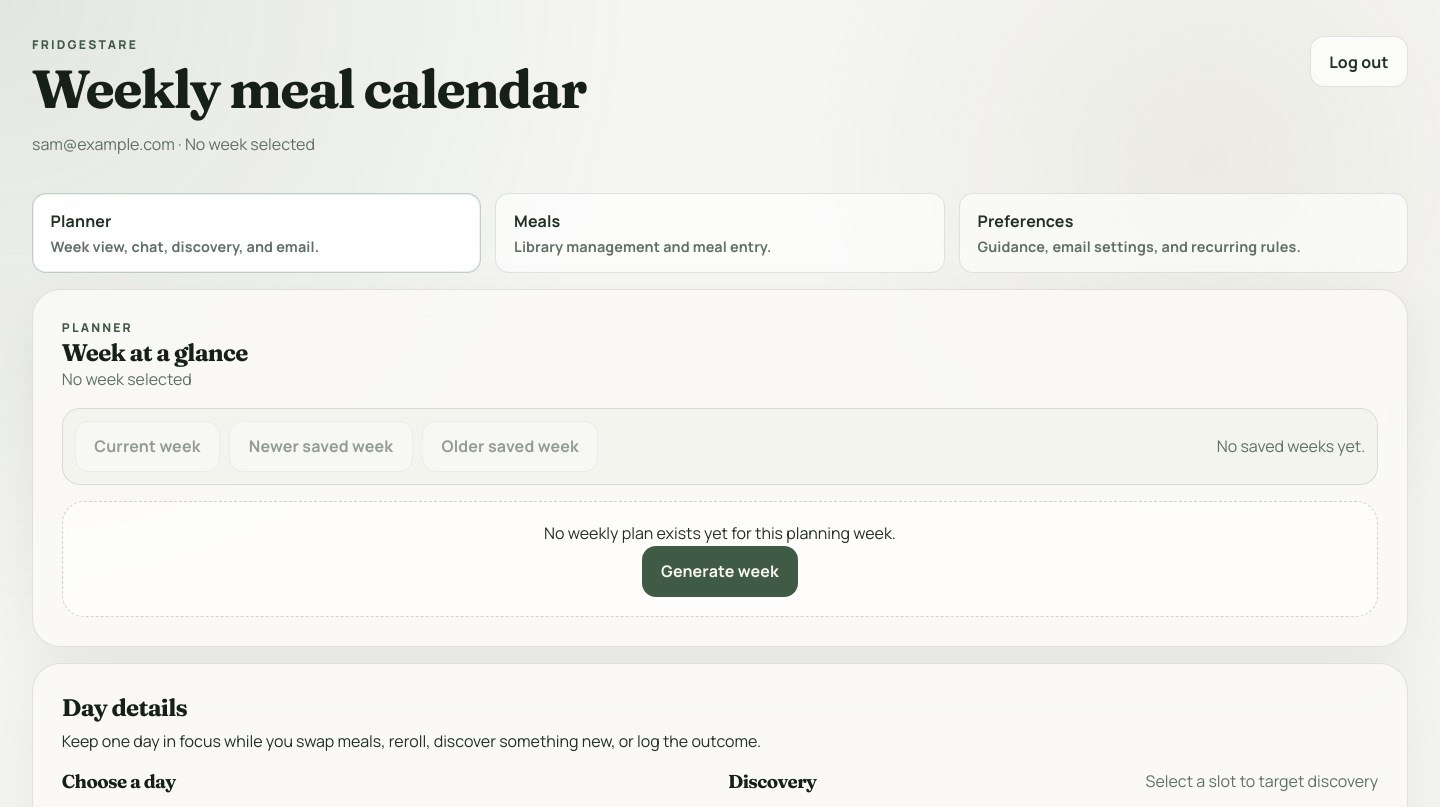
Test case: App › offers planning timezones as a fixed list rather than free text
The image size is (1440, 807).
Click the tab "Preferences Guidance, email settings, and recurring rules.": {"x": 1025, "y": 221} [959,193,1408,273]
(page scrolled)
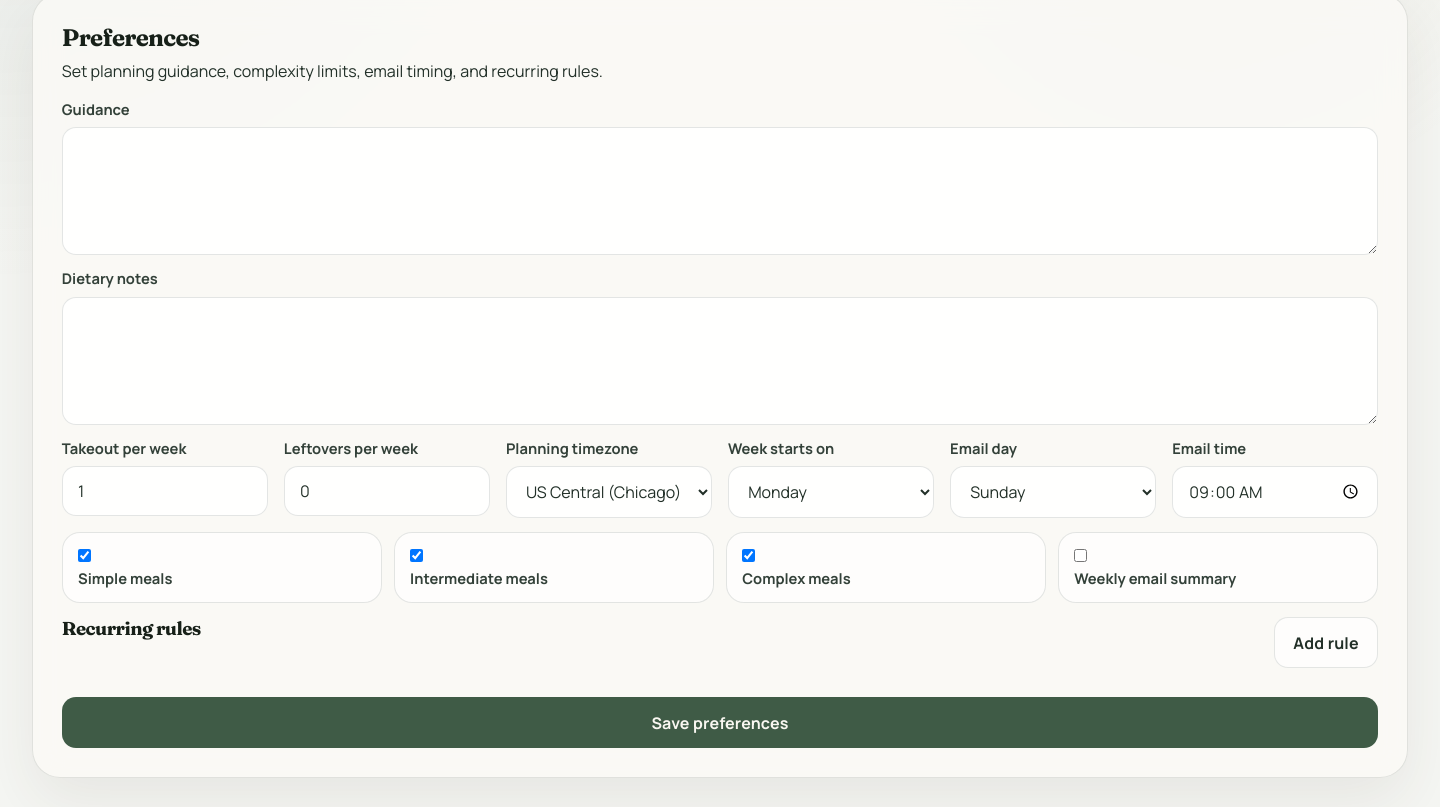
Expected: the dropdown labelled "Planning timezone" shows "US Central (Chicago)", [506,466,712,518]
